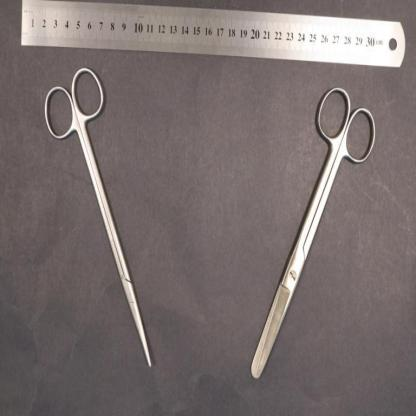7 Metzenbaum Scissors: (43, 65, 152, 366)
Dressing Scissors: (250, 84, 378, 380)
